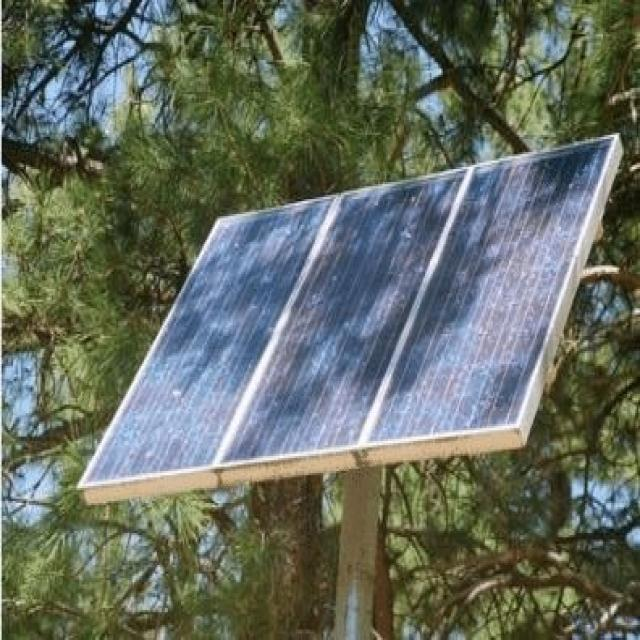dust-solar-panel: (79, 134, 606, 488)
